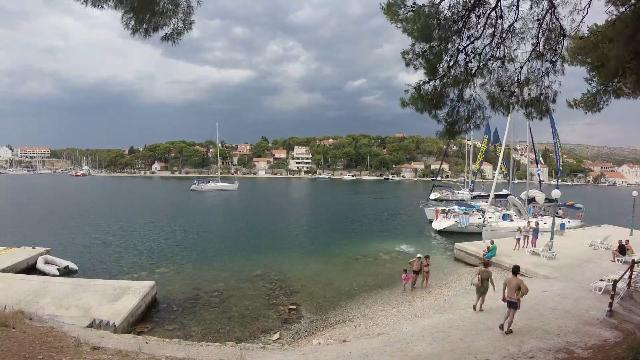Sailboat: (186, 176, 244, 196)
